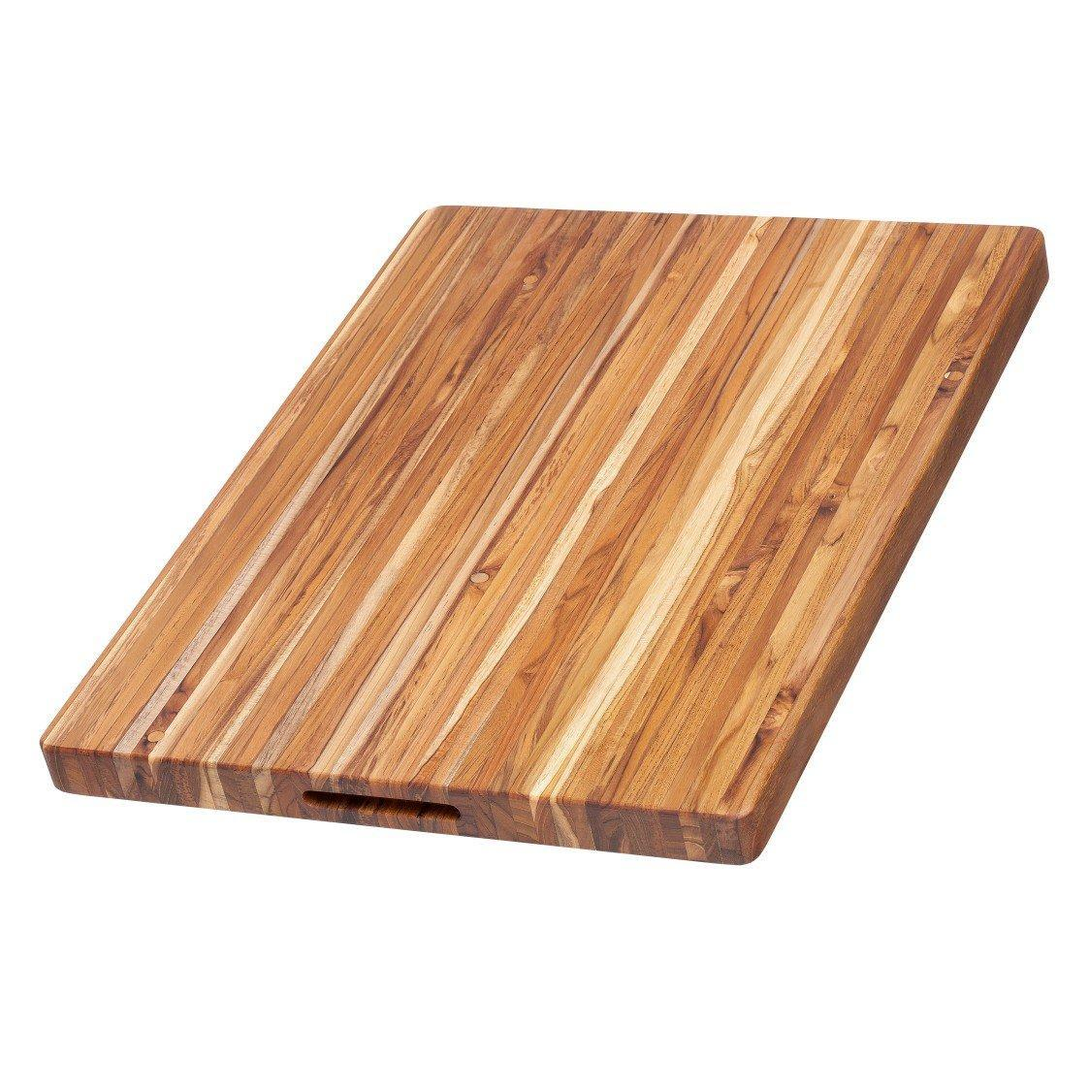gloved_hand: (44, 190, 1054, 871)
